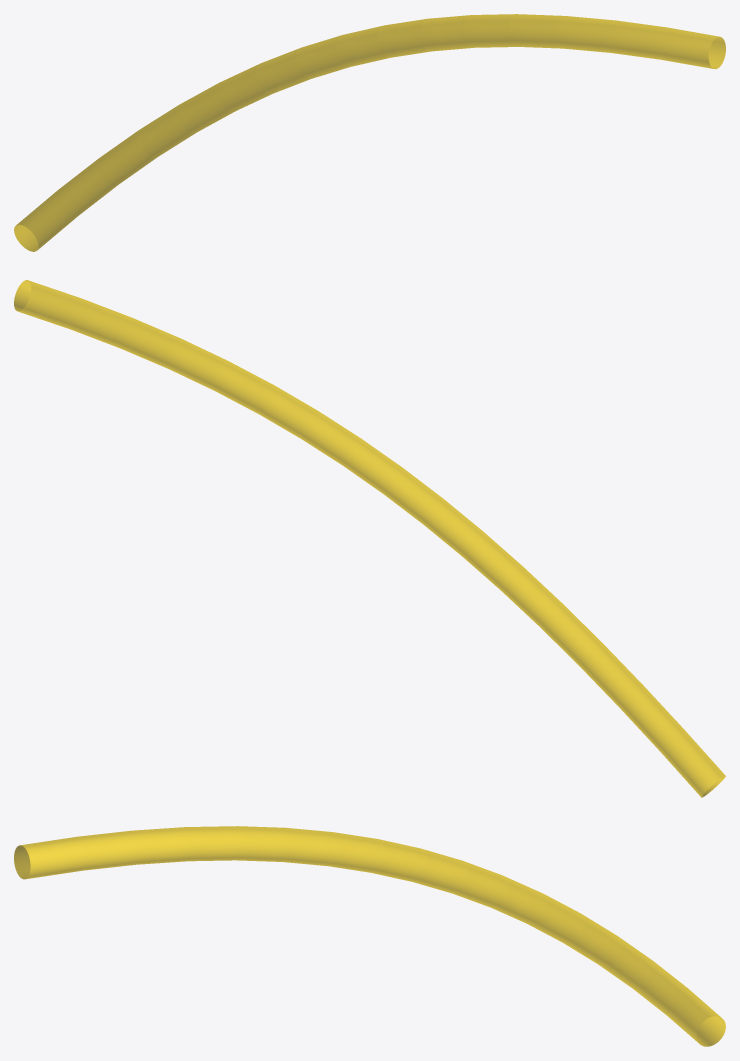
The model's file is Event_402970704_track_36.fbx.
3 views of the same model, one above another, from view 1: azimuth 30°, elevation 25°; view 2: azimuth 210°, elevation 25°; view 3: azimuth 270°, elevation 25° (orthographic). The views are drawn at different scales.
Parts seen in each view (by area): view 1: Model; view 2: Model; view 3: Model.
Boxes of the visible parts, x1,y1,x2,y2 form: Model: (14, 14, 725, 251); Model: (14, 280, 725, 797); Model: (14, 826, 725, 1046).
Size of the model in its own units: 0.5413 by 0.4859 by 0.8251.
